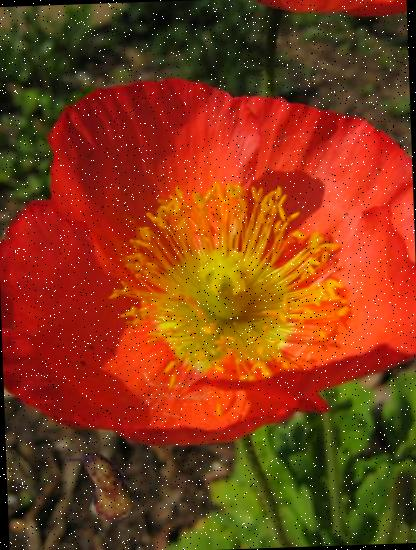Pear: (63, 450, 139, 526)
